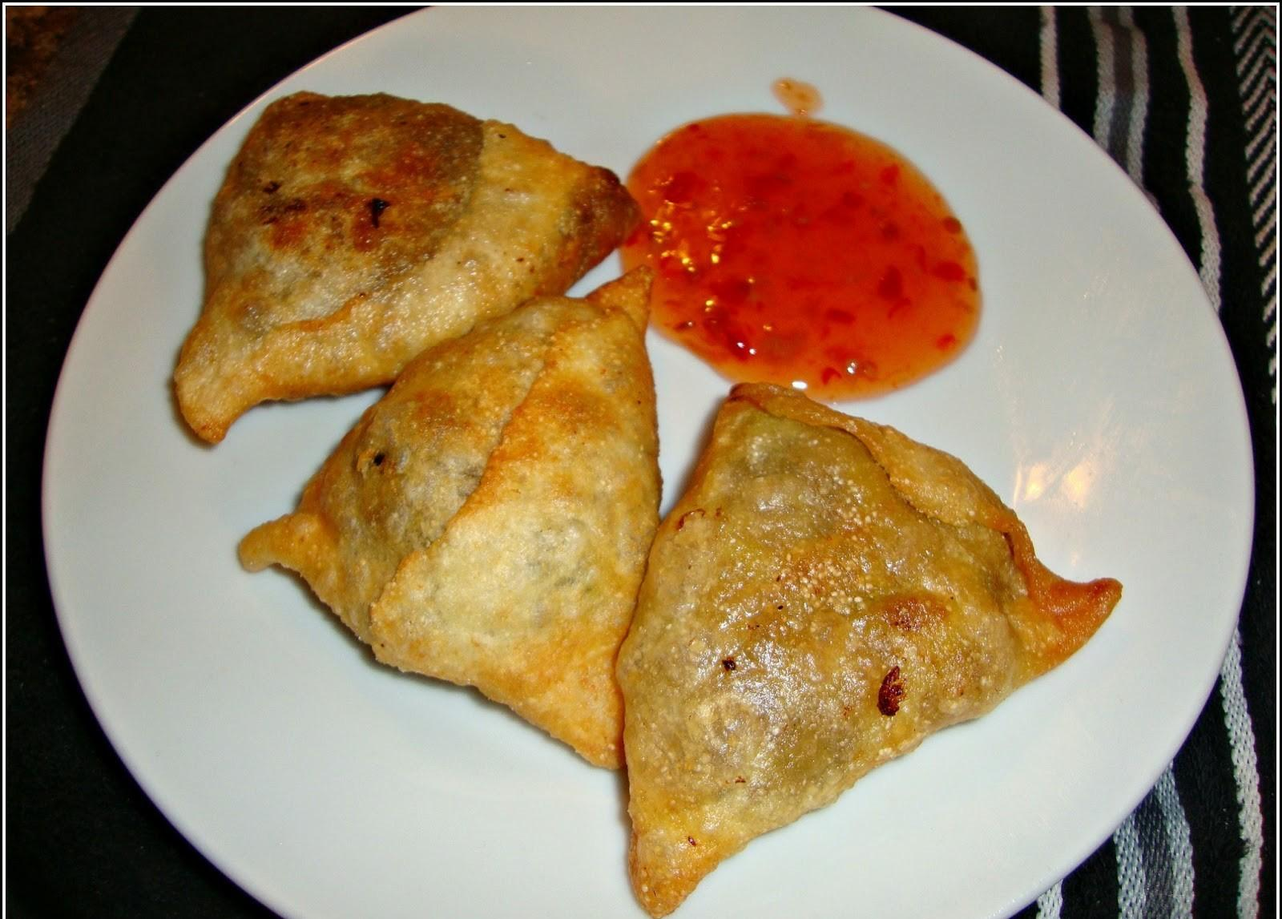Samosa: (613, 380, 1124, 918), (228, 271, 656, 776), (172, 90, 631, 447)
